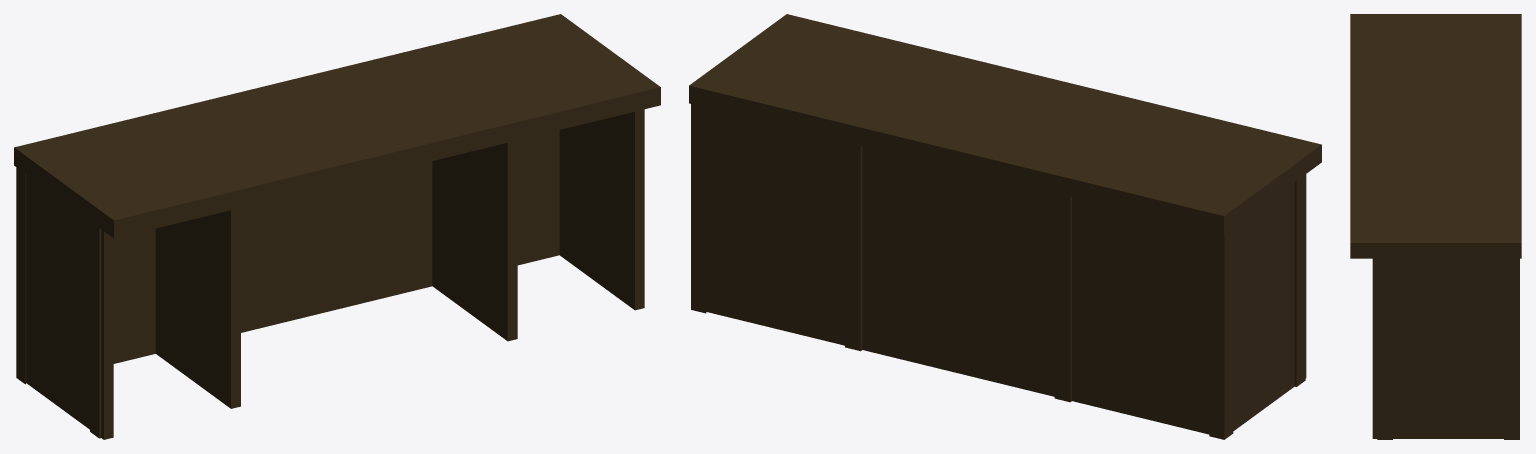
The model's file is Office_Desk_3.fbx.
3 views of the same model, side by side, from view 1: azimuth 30°, elevation 25°; view 2: azimuth 150°, elevation 25°; view 3: azimuth 270°, elevation 25° (orthographic). The views are drawn at different scales.
Parts seen in each view (by area): view 1: Office_Desk_3; view 2: Office_Desk_3; view 3: Office_Desk_3.
Boxes of the visible parts, x1=… form: Office_Desk_3: x1=14, y1=14, x2=660, y2=439; Office_Desk_3: x1=689, y1=14, x2=1321, y2=439; Office_Desk_3: x1=1350, y1=14, x2=1521, y2=439.
Size of the model in its own units: 237 by 95.09 by 75.
